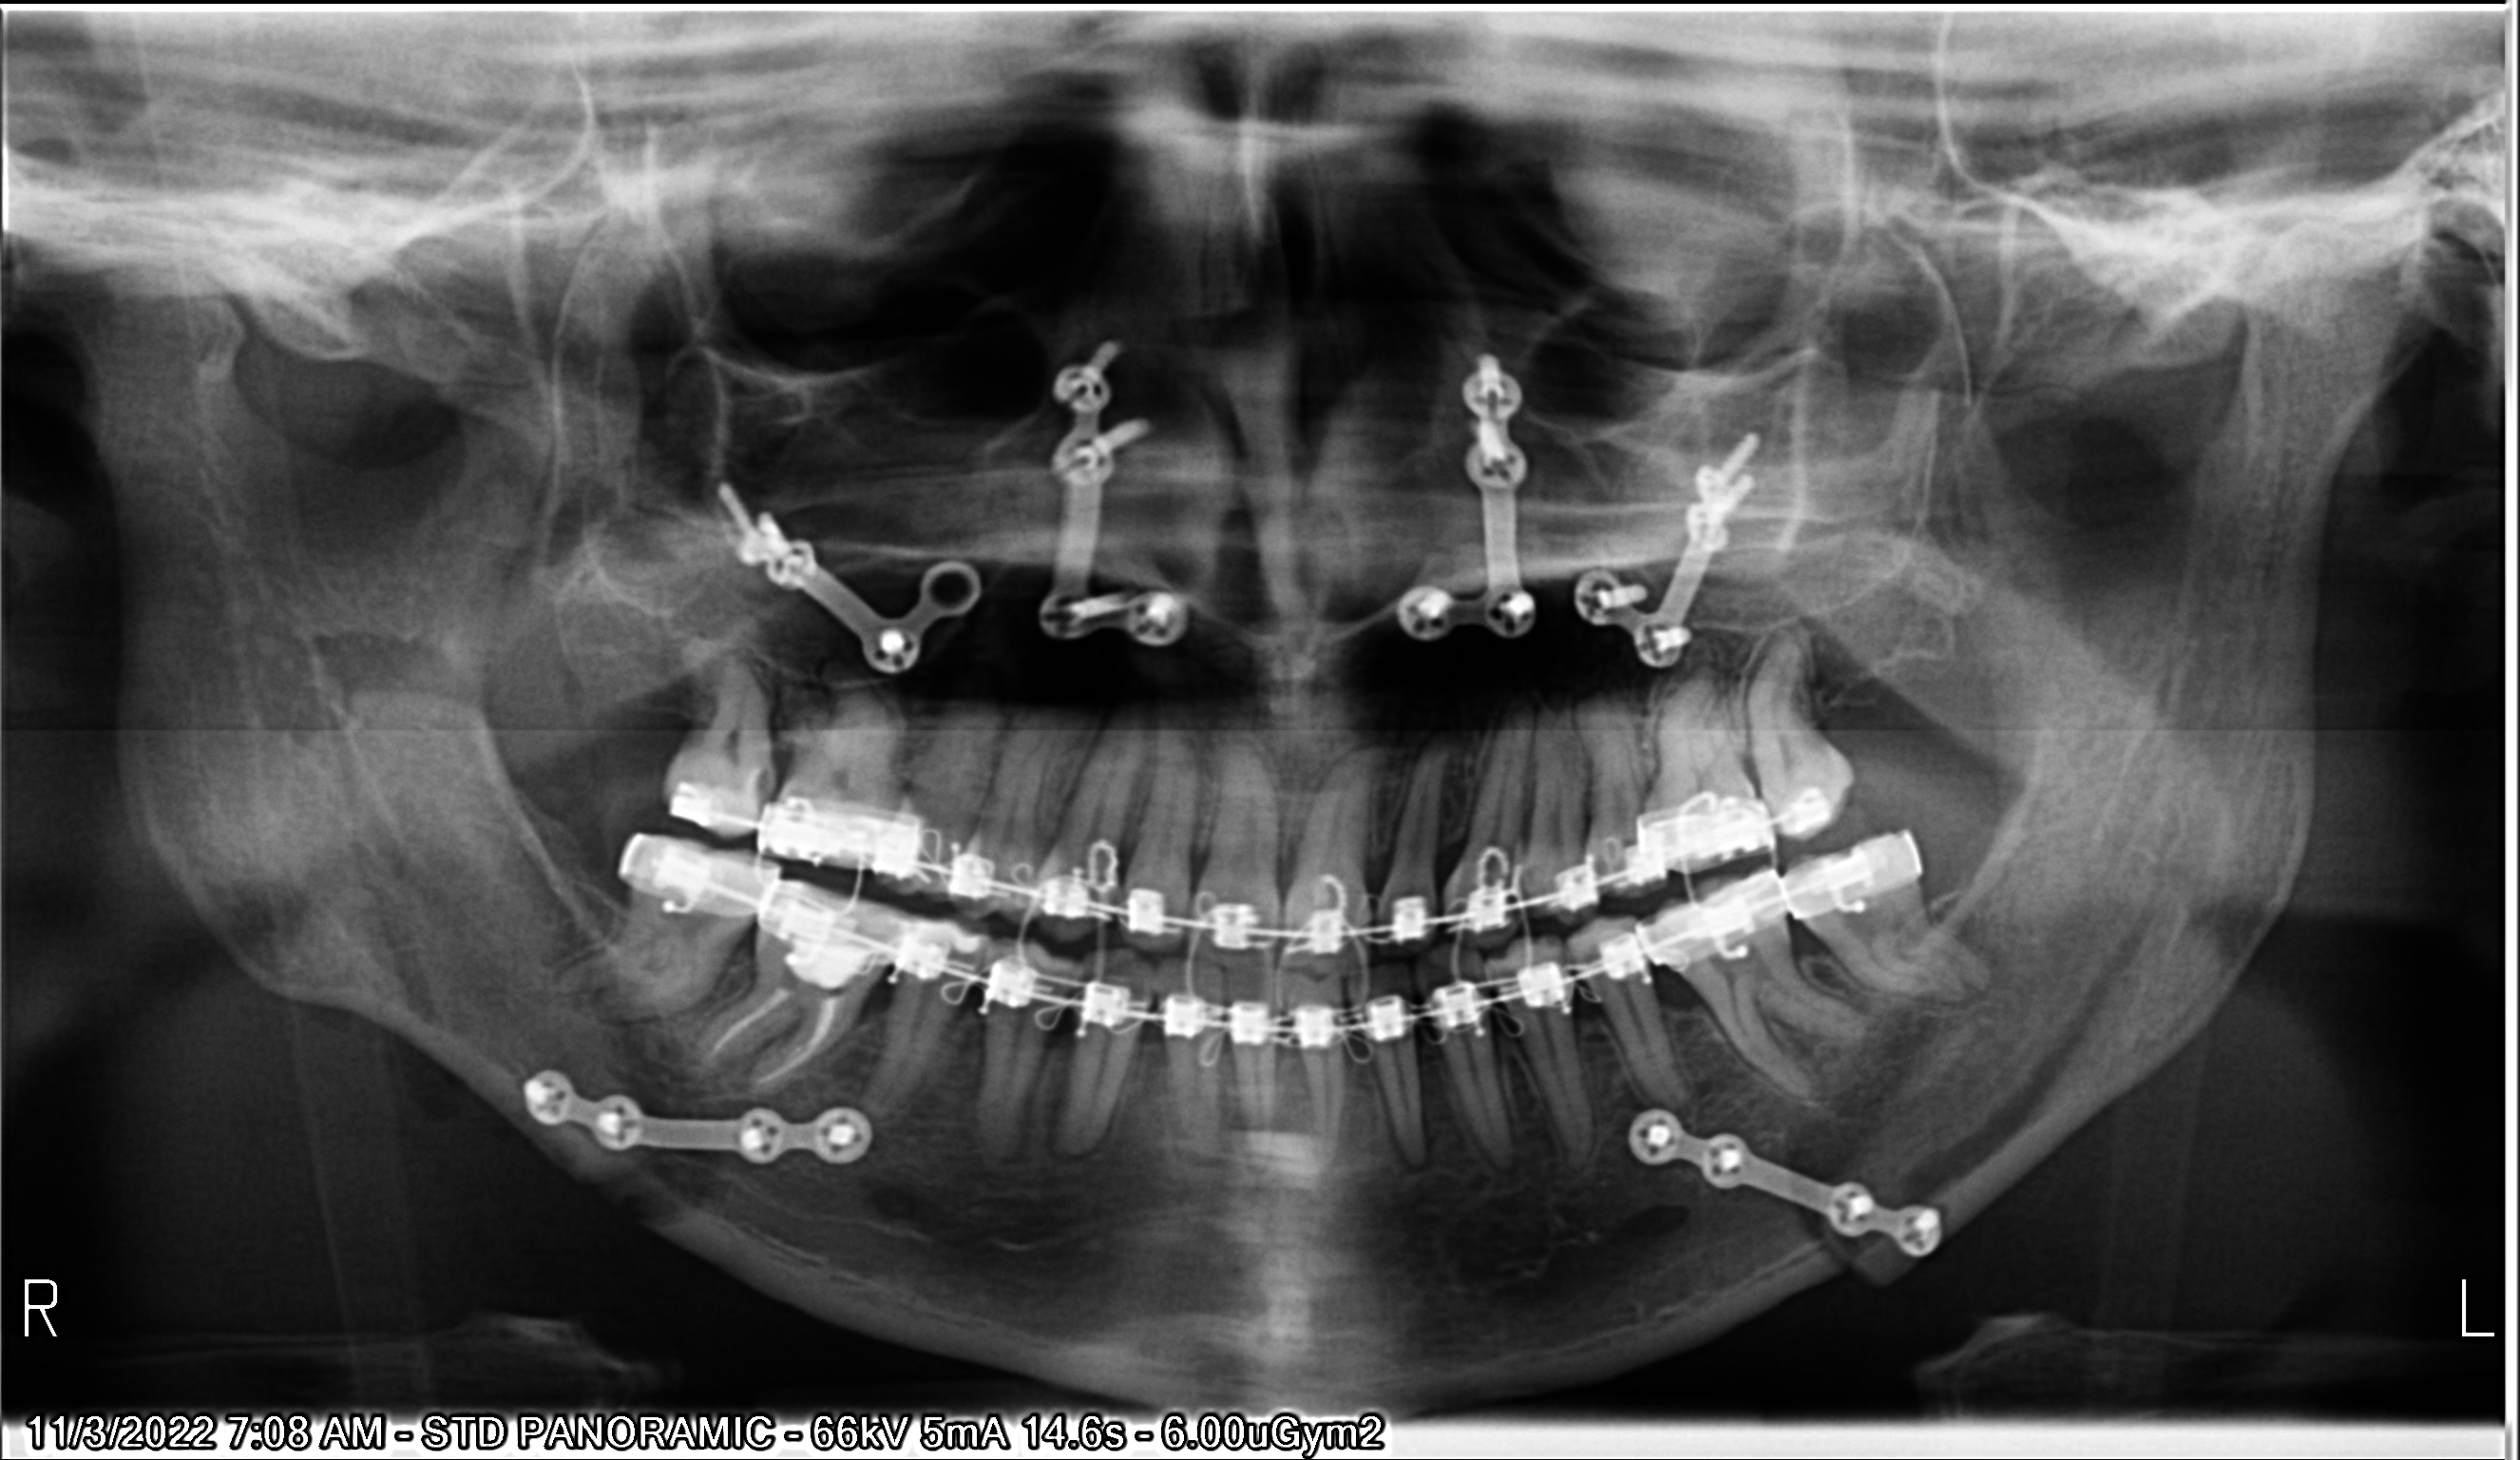END: (667, 970, 860, 1100)
ORD: (603, 786, 1933, 1074), (648, 746, 1853, 992)
SRD: (665, 443, 1007, 697), (1009, 335, 1263, 662), (1612, 1078, 1952, 1279), (1360, 335, 1561, 667), (1544, 410, 1785, 687), (498, 1050, 860, 1196)
